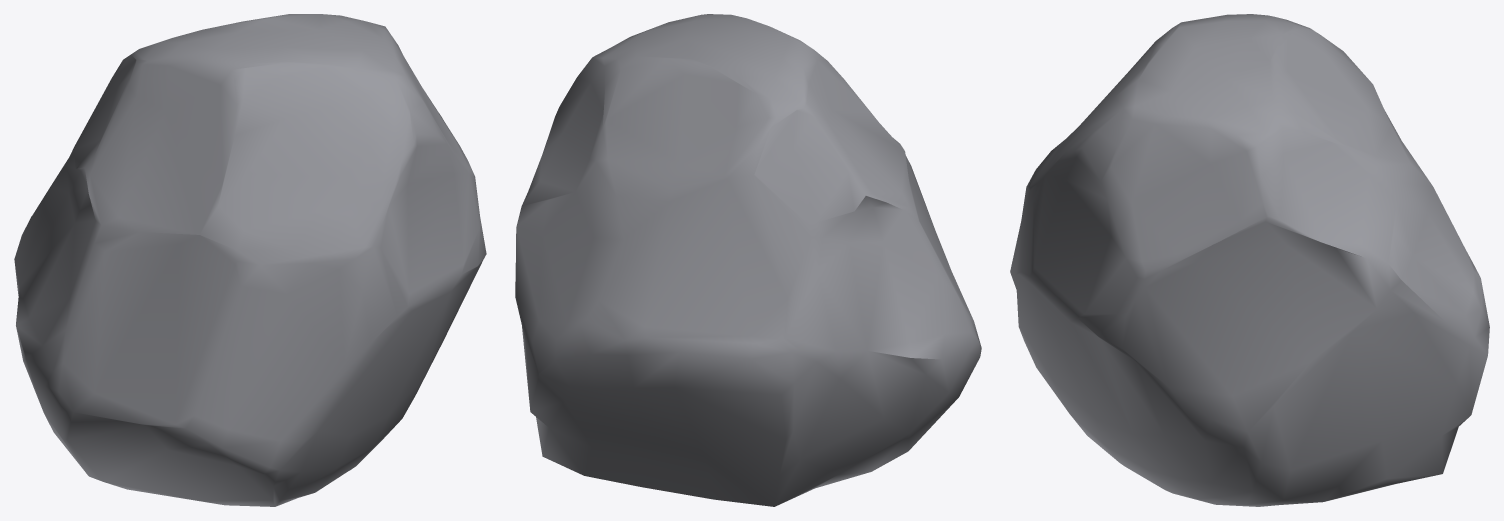
The model's file is environment-rock-4.glb.
3 views of the same model, side by side, from view 1: azimuth 30°, elevation 25°; view 2: azimuth 150°, elevation 25°; view 3: azimuth 270°, elevation 25° (orthographic). The views are drawn at different scales.
Visible parts, largest first — view 1: Environment_Rock_4; view 2: Environment_Rock_4; view 3: Environment_Rock_4.
Part boxes in pixels (x1,y1,x2,y2): Environment_Rock_4: [14, 14, 486, 506]; Environment_Rock_4: [515, 14, 981, 506]; Environment_Rock_4: [1010, 14, 1489, 506].
Bounding box in the file's own units: 0.7628 × 0.7114 × 0.746.
Materials: 1 (1 with a texture image).
